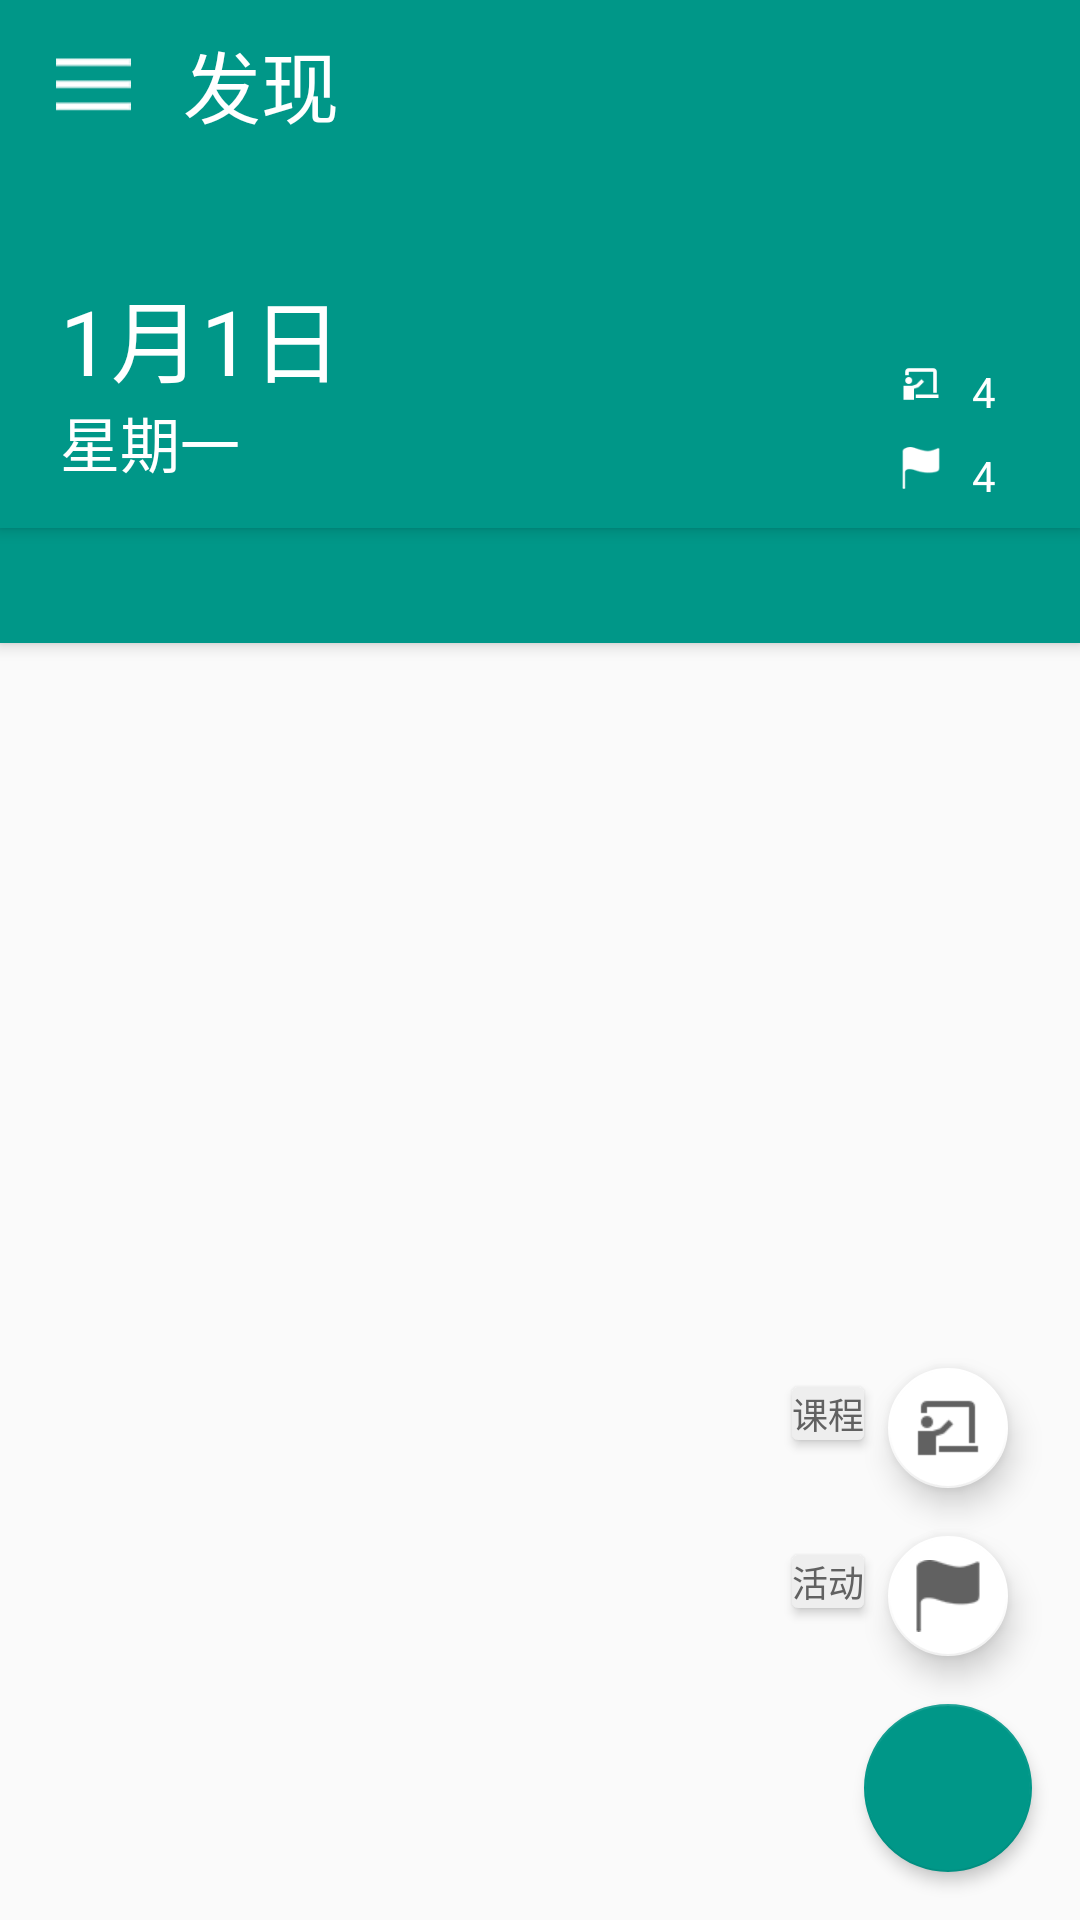

Icon bounding boxes for this 1080w x 1920h phone screenshot, format [left=x1, top=y1, right=x2, bottom=y2]:
menu: [left=56, top=58, right=131, bottom=111]
